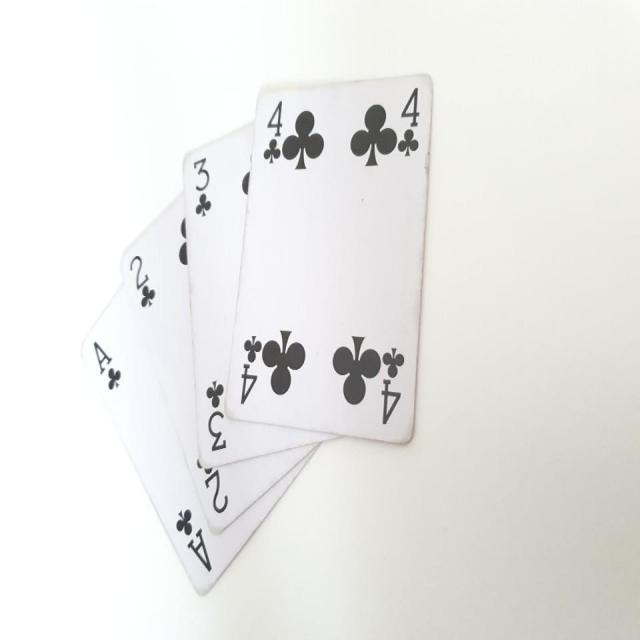2 Trefoils: (118, 189, 319, 535)
3 Trefoils: (182, 122, 344, 469)
4 Trefoils: (225, 72, 434, 444)
A Trefoils: (80, 283, 321, 596)
